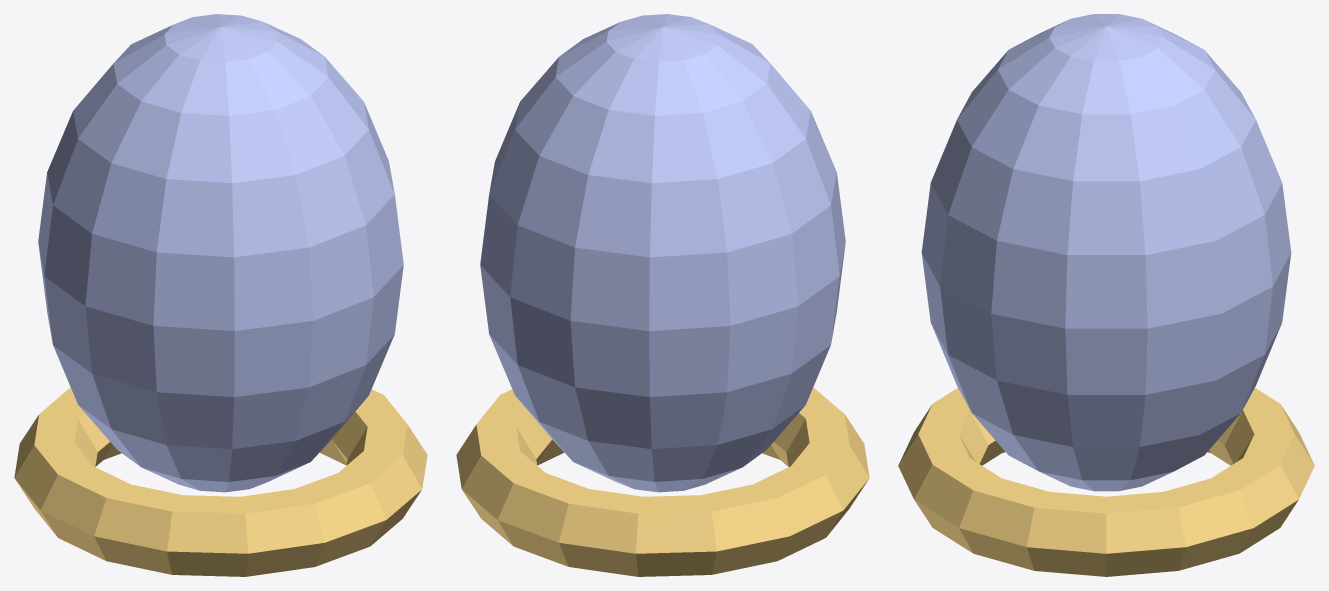
The model's file is egg.fbx.
The picture shows the model from 3 angles, left to right: view 1: azimuth 30°, elevation 25°; view 2: azimuth 150°, elevation 25°; view 3: azimuth 270°, elevation 25°; orthographic projection.
Parts seen in each view (by area): view 1: egg.Main, egg.Gold; view 2: egg.Main, egg.Gold; view 3: egg.Main, egg.Gold.
Part boxes in pixels (x1,y1,x2,y2): egg.Main: (38, 14, 403, 492); egg.Gold: (14, 387, 427, 576); egg.Main: (480, 14, 845, 492); egg.Gold: (456, 387, 869, 576); egg.Main: (921, 14, 1291, 491); egg.Gold: (898, 388, 1314, 576).
Bounding box in the file's own units: 1.24 × 1.55 × 1.24.
